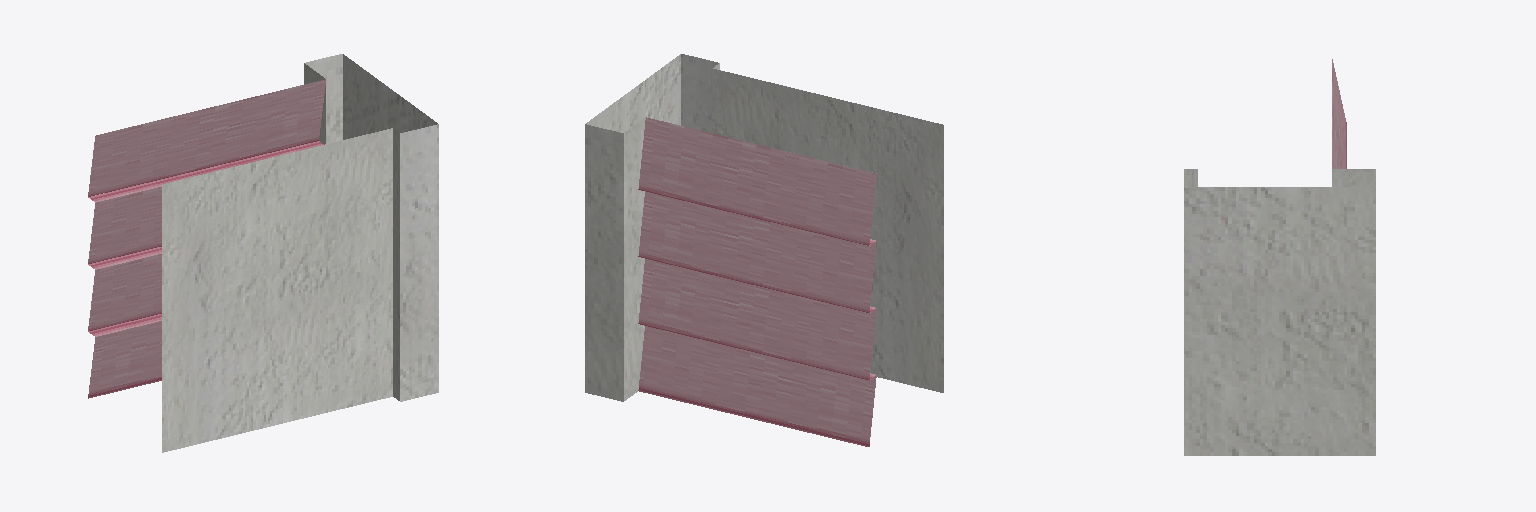
3 renders of one model, left to right at view 1: azimuth 30°, elevation 25°; view 2: azimuth 150°, elevation 25°; view 3: azimuth 270°, elevation 25°, orthographic.
Size of the model in its own units: 2.1 by 2 by 1.3.
1 materials, 1 textured.